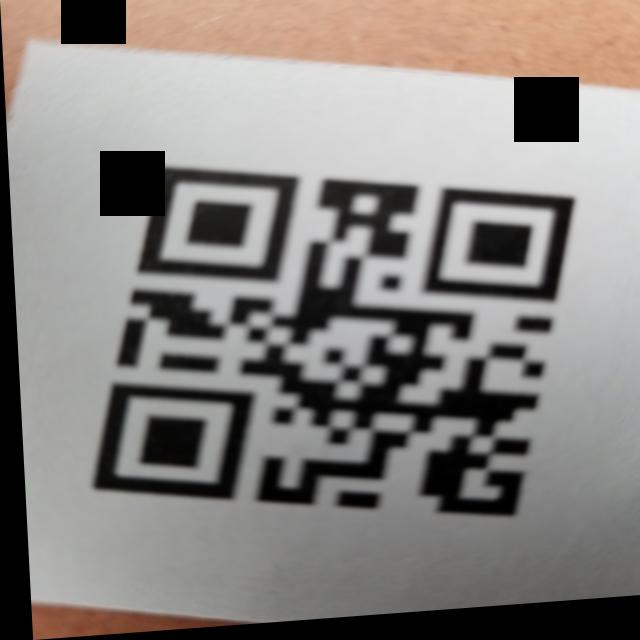QR_CODE: (33, 107, 618, 580)
